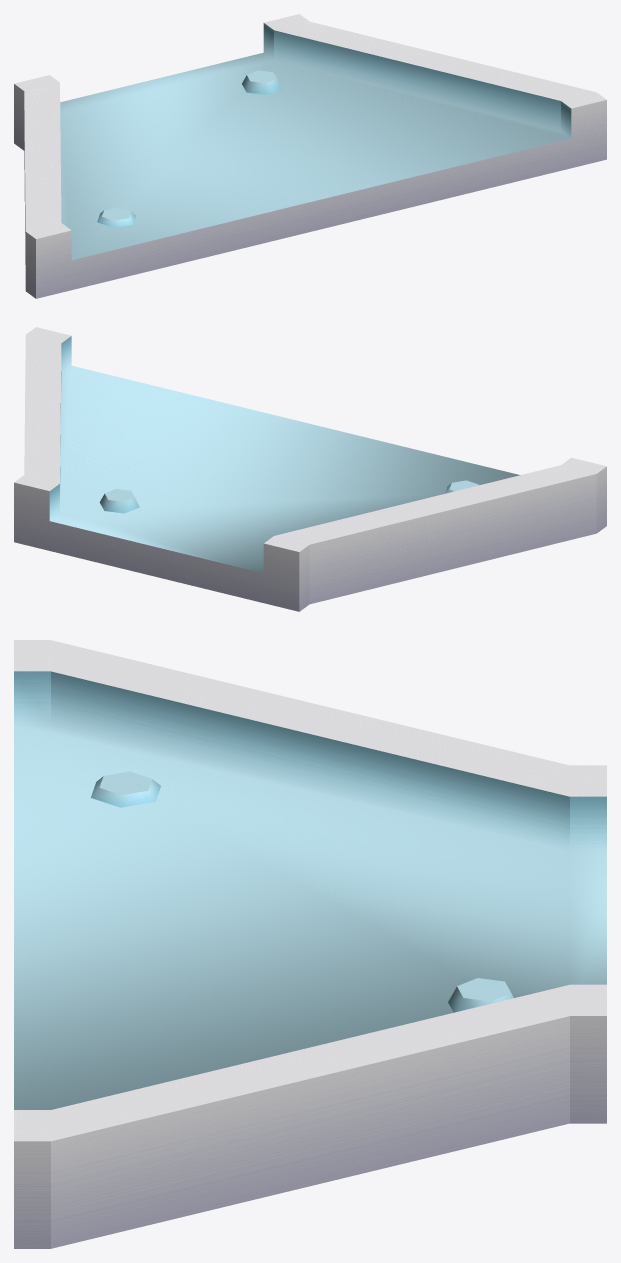
File: snow-tile-wide-transition.glb
3 views of the same model, one above another, from view 1: azimuth 30°, elevation 25°; view 2: azimuth 150°, elevation 25°; view 3: azimuth 270°, elevation 25° (orthographic). The views are drawn at different scales.
Visible parts, largest first — view 1: snow-tile-wide-transition; view 2: snow-tile-wide-transition; view 3: snow-tile-wide-transition.
Boxes of the visible parts, bbox=[...] form: snow-tile-wide-transition: bbox=[14, 14, 606, 298]; snow-tile-wide-transition: bbox=[14, 327, 606, 611]; snow-tile-wide-transition: bbox=[14, 640, 606, 1248].
Bounding box in the file's own units: 6 × 0.6 × 3.
Materials: 1 (1 with a texture image).
